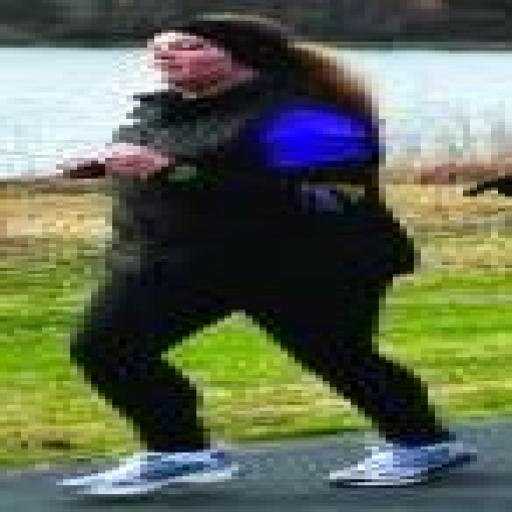person: (64, 15, 476, 497)
